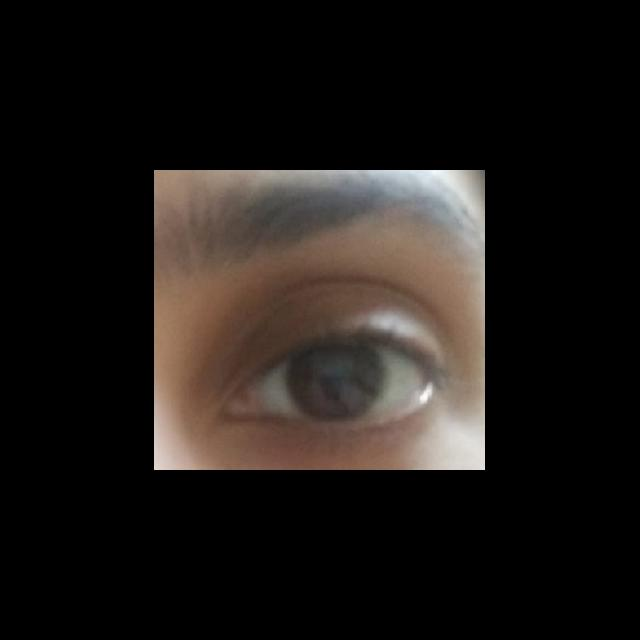eye: (256, 340, 425, 426)
iris: (288, 345, 385, 419)
